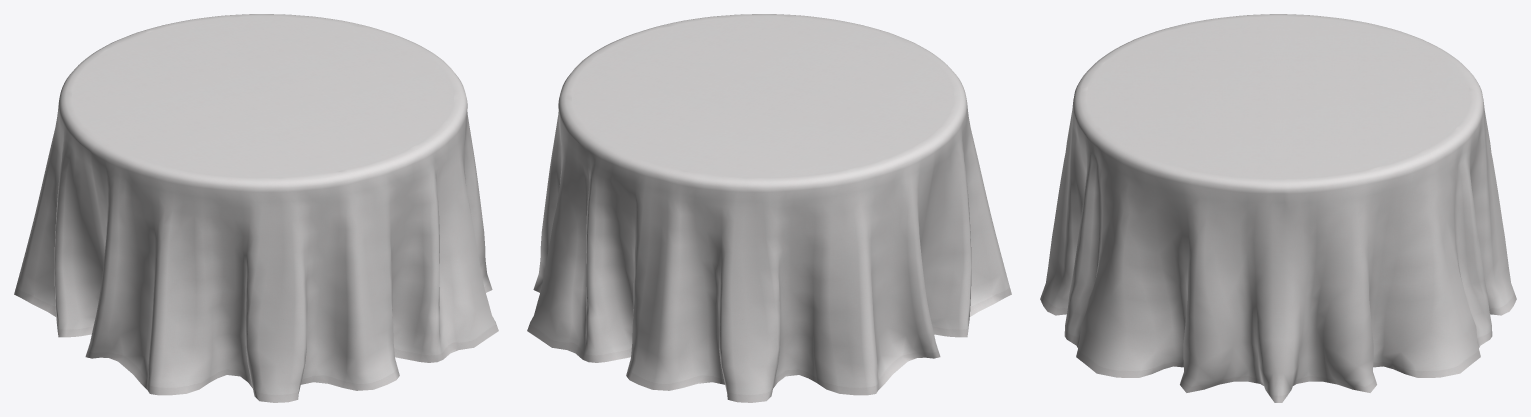
Rendered from EventTable03Cloth01_1.FBX.
The picture shows the model from 3 angles, left to right: view 1: azimuth 30°, elevation 25°; view 2: azimuth 150°, elevation 25°; view 3: azimuth 270°, elevation 25°; orthographic projection.
Visible parts, largest first — view 1: EventTable03Cloth01_1; view 2: EventTable03Cloth01_1; view 3: EventTable03Cloth01_1.
Boxes of the visible parts, x1,y1,x2,y2 form: EventTable03Cloth01_1: [14, 14, 498, 402]; EventTable03Cloth01_1: [527, 14, 1011, 402]; EventTable03Cloth01_1: [1040, 14, 1516, 402].
Size of what is drawn, in the model's own units: 1.82 by 0.9001 by 1.9.
